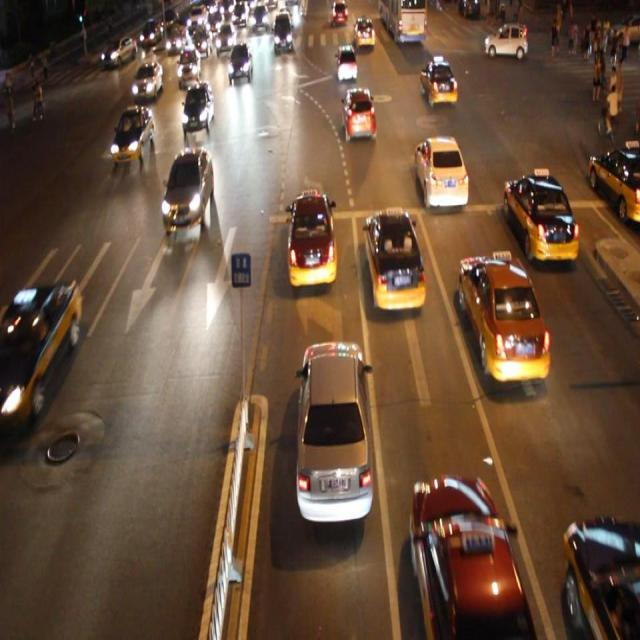car: (409, 475, 533, 640), (295, 339, 372, 524), (458, 250, 549, 382), (1, 282, 80, 420), (560, 515, 640, 640), (502, 165, 578, 264), (361, 209, 424, 311), (584, 138, 640, 225), (288, 188, 336, 288), (162, 149, 212, 235), (413, 135, 468, 210), (113, 106, 154, 164), (342, 86, 376, 143), (420, 56, 457, 106), (182, 85, 214, 130), (132, 59, 163, 101), (227, 46, 252, 82), (176, 49, 201, 83), (334, 44, 356, 82)
